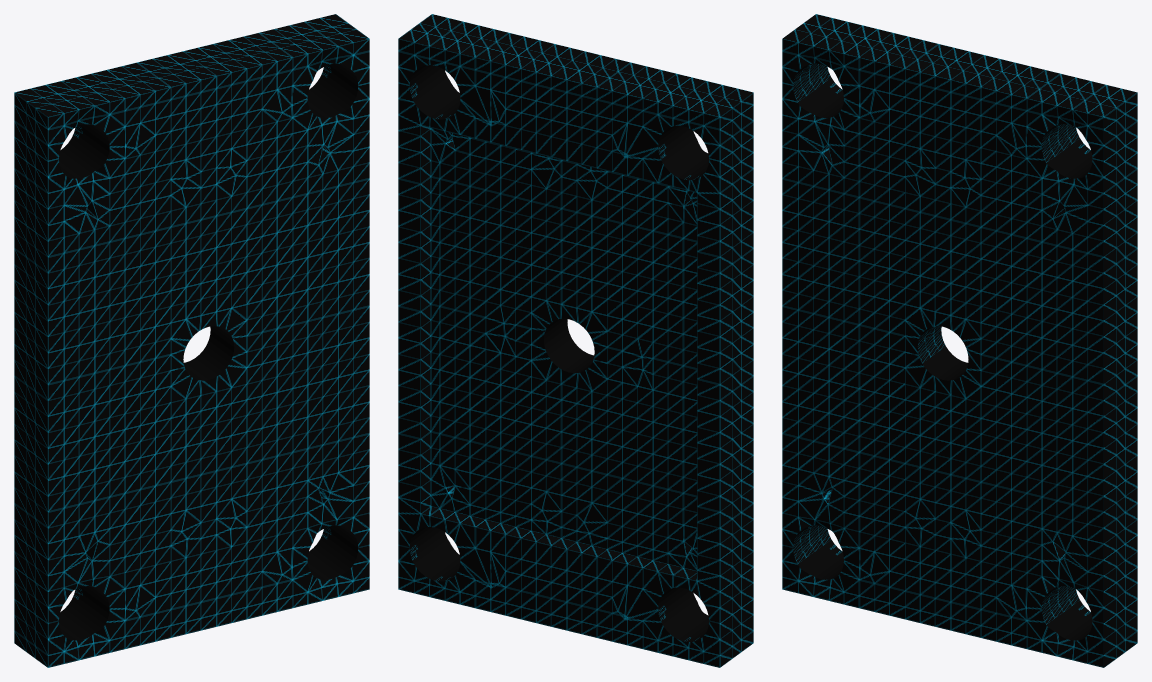
The model's file is Mold1-Top supporting plate-M.glb.
3 renders of one model, left to right at view 1: azimuth 30°, elevation 25°; view 2: azimuth 150°, elevation 25°; view 3: azimuth 330°, elevation 25°, orthographic.
Visible parts, largest first — view 1: block porte empreinte sup.001; view 2: block porte empreinte sup.001; view 3: block porte empreinte sup.001.
Boxes of the visible parts, bbox=[...] form: block porte empreinte sup.001: bbox=[14, 14, 369, 667]; block porte empreinte sup.001: bbox=[398, 14, 753, 667]; block porte empreinte sup.001: bbox=[782, 14, 1137, 667].
Bounding box in the file's own units: 5.18 × 8.48 × 0.9458.
1 material, 1 textured.
